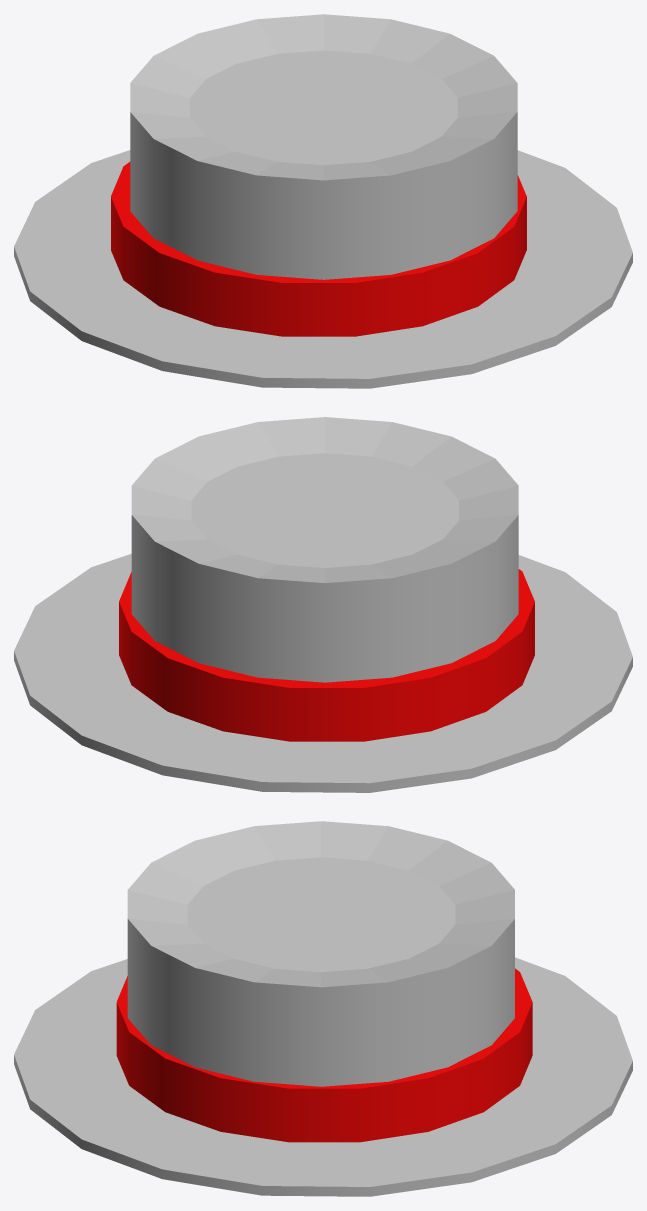
File: Barber Hat Model.fbx
3 renders of one model, top to bottom at view 1: azimuth 30°, elevation 25°; view 2: azimuth 150°, elevation 25°; view 3: azimuth 270°, elevation 25°, orthographic.
Parts seen in each view (by area): view 1: BarberHatBase, BarberHatRim, BarberHatTrim; view 2: BarberHatBase, BarberHatRim, BarberHatTrim; view 3: BarberHatBase, BarberHatRim, BarberHatTrim.
Boxes of the visible parts, x1,y1,x2,y2 form: BarberHatBase: (130,14,517,279); BarberHatRim: (14,150,632,388); BarberHatTrim: (111,161,526,336); BarberHatBase: (131,417,518,682); BarberHatRim: (14,554,632,792); BarberHatTrim: (119,569,534,741); BarberHatBase: (127,821,514,1086); BarberHatRim: (14,957,632,1196); BarberHatTrim: (116,968,532,1142).
Size of the model in its own units: 26.16 by 7.68 by 26.45.
